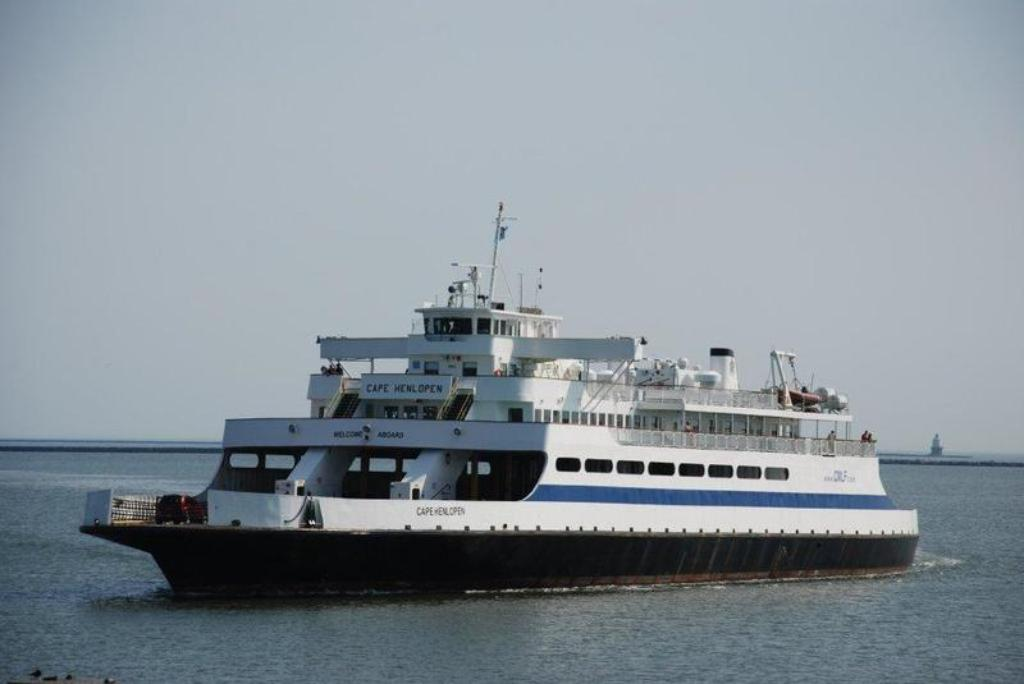PassengerShip: (72, 203, 924, 618)
